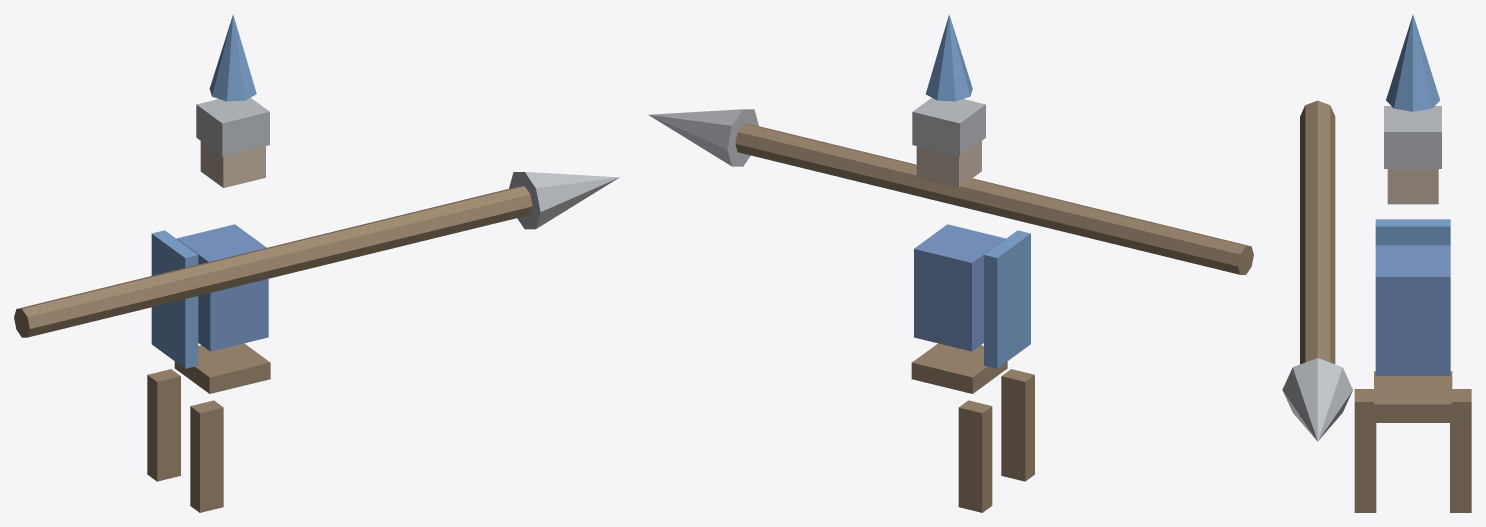
Rendered from vanguard_lancer.glb.
The picture shows the model from 3 angles, left to right: view 1: azimuth 30°, elevation 25°; view 2: azimuth 150°, elevation 25°; view 3: azimuth 270°, elevation 25°; orthographic projection. The views are drawn at different scales.
Visible parts, largest first — view 1: vanguard_lancer; view 2: vanguard_lancer; view 3: vanguard_lancer.
Part boxes in pixels (x1,y1,x2,y2): vanguard_lancer: (14, 14, 619, 512); vanguard_lancer: (648, 14, 1253, 512); vanguard_lancer: (1282, 14, 1471, 512).
Size of the model in its own units: 56.5 by 42 by 13.9.
